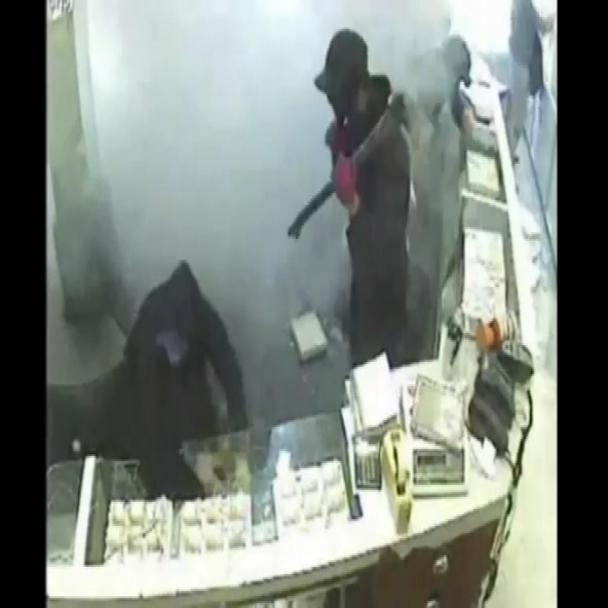smoke: (39, 0, 509, 538)
